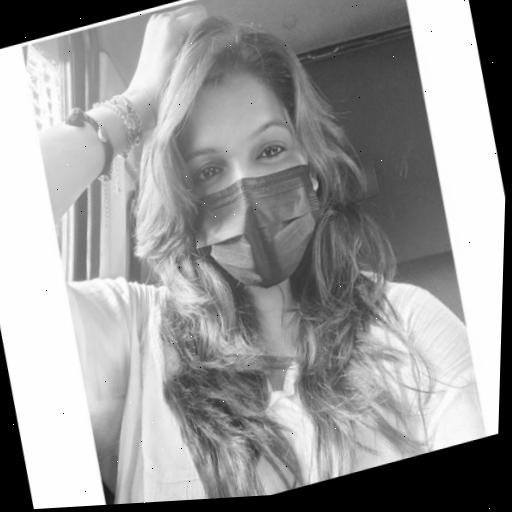mask: (168, 77, 336, 306)
